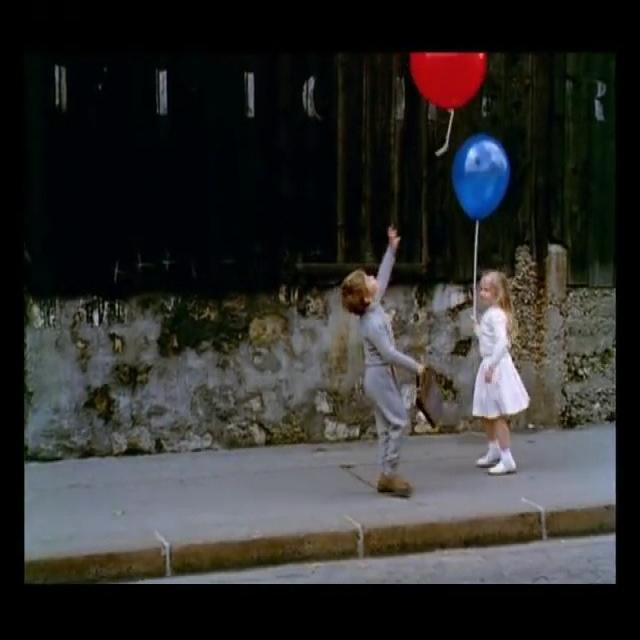balloon: (451, 132, 510, 221), (408, 49, 488, 111)
